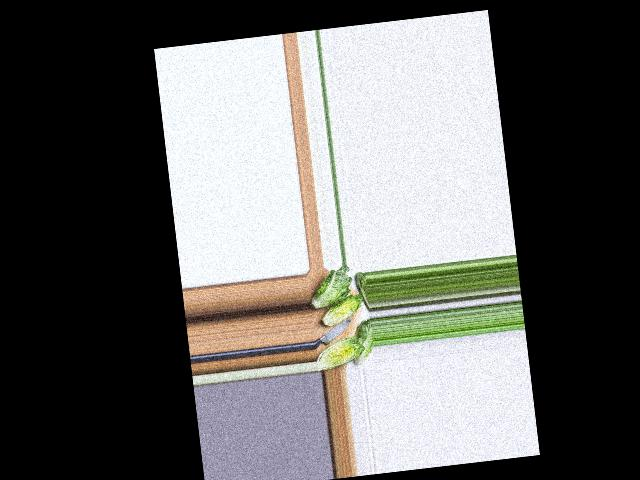lettuce: (350, 320, 373, 364)
